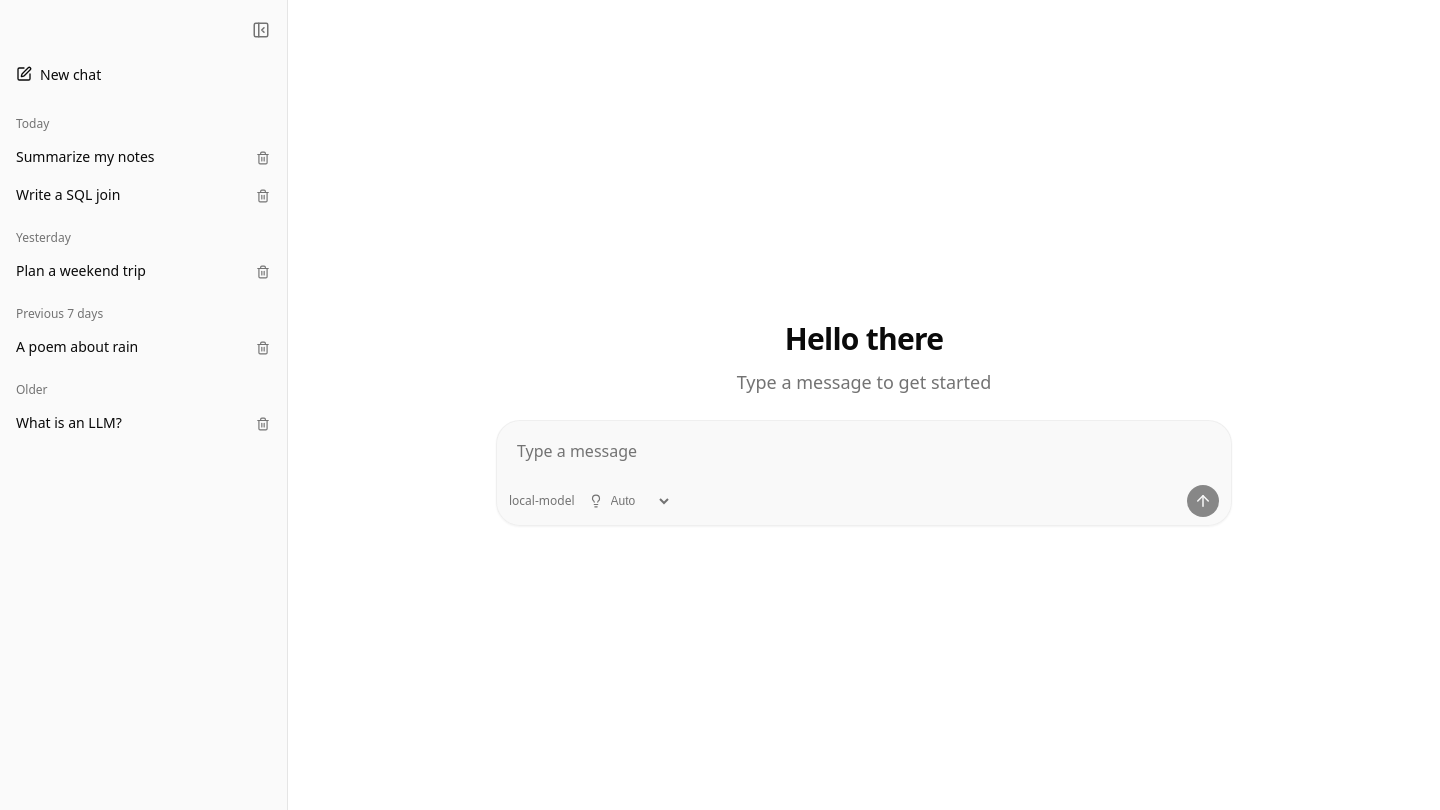
it: deleting asks first, in the row; Cancel and Escape keep the conversation
Expected: the link "New chat" is shown, [16,64,101,84]
Step 1. Click the button named "Delete “Summarize my notes”" → {"x": 263, "y": 158}, box [247,142,279,174]
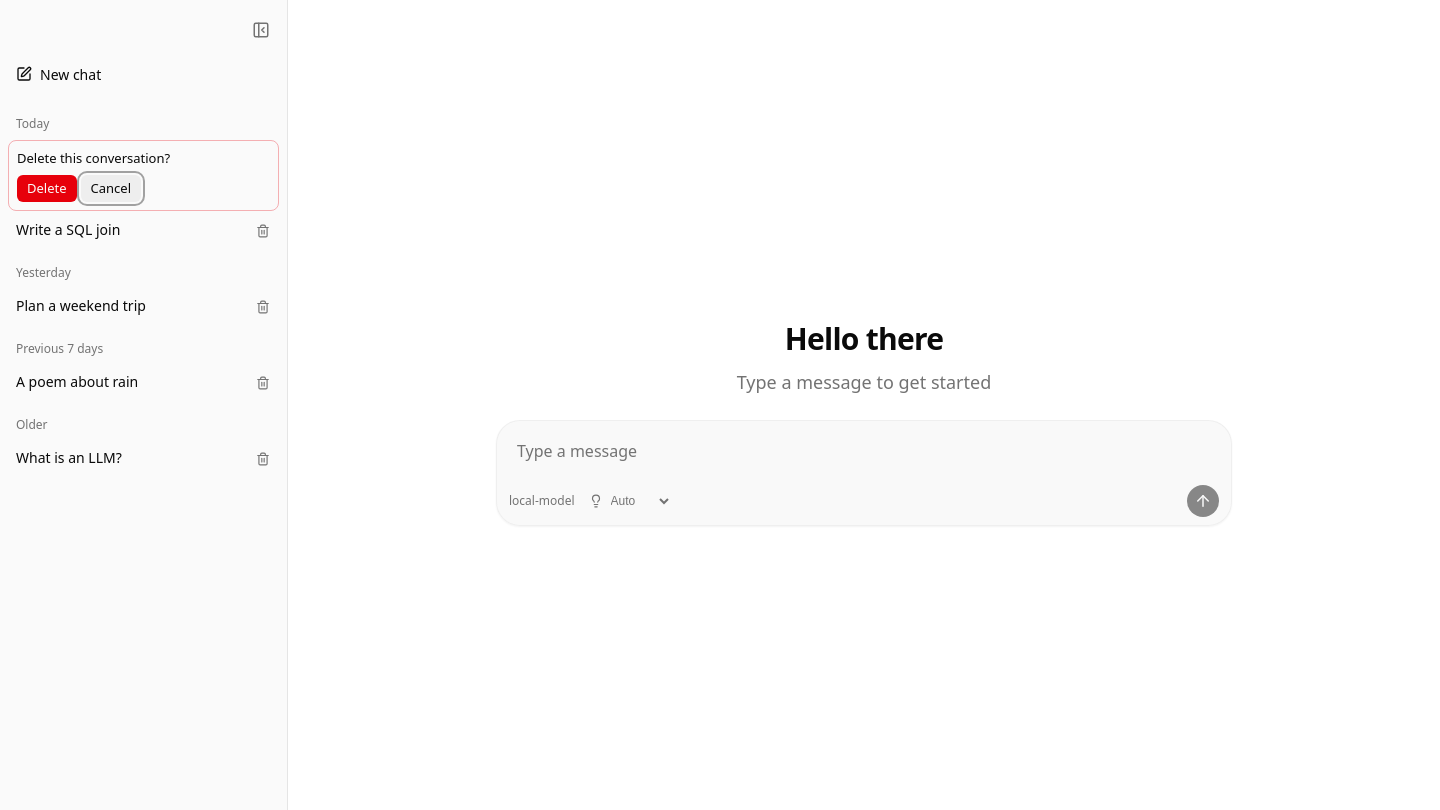
Step 2. Click the button "Cancel" → {"x": 111, "y": 188}, box [80,174,141,202]
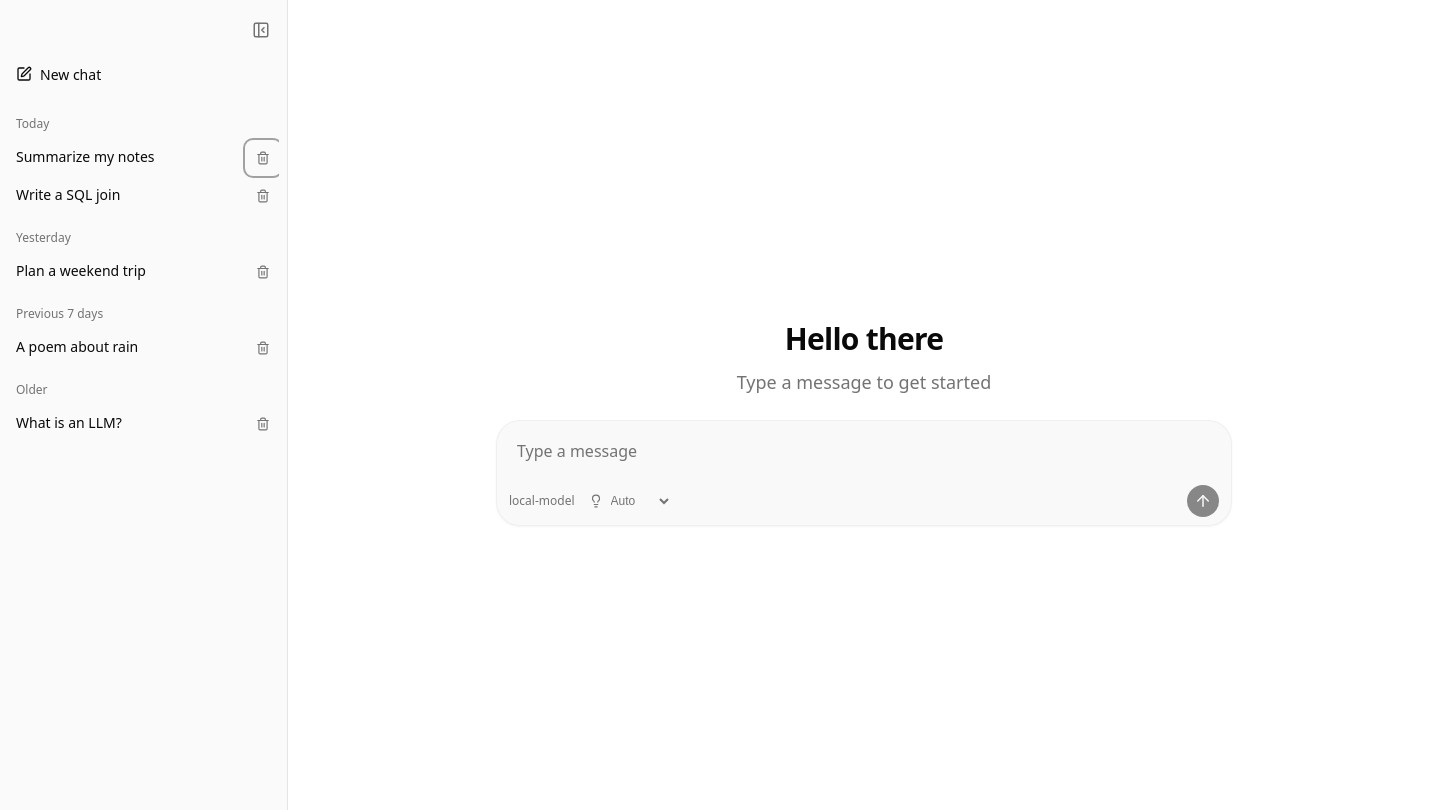
Step 3. Click the button named "Delete “Summarize my notes”" → {"x": 263, "y": 158}, box [247,142,279,174]
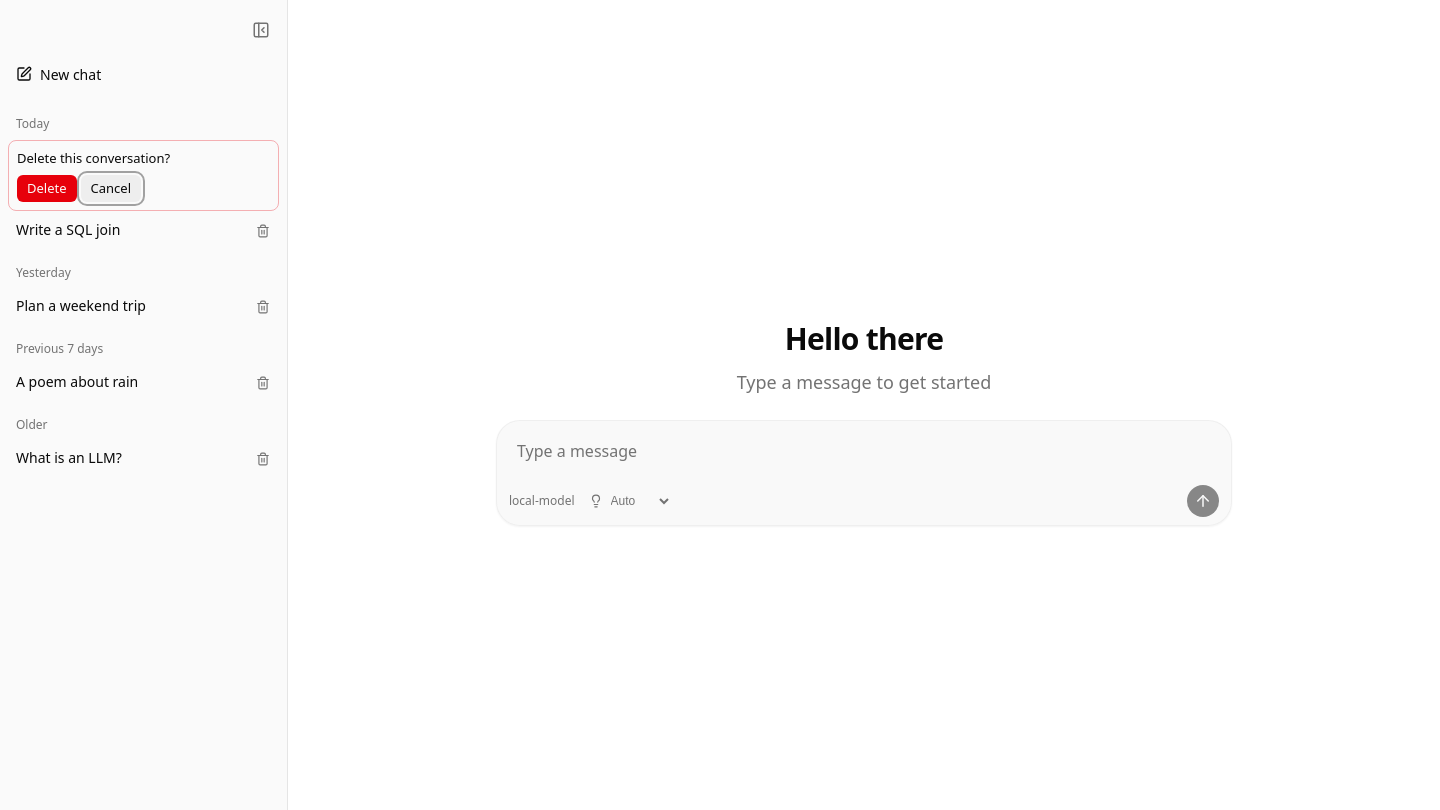
Step 4. Press Escape
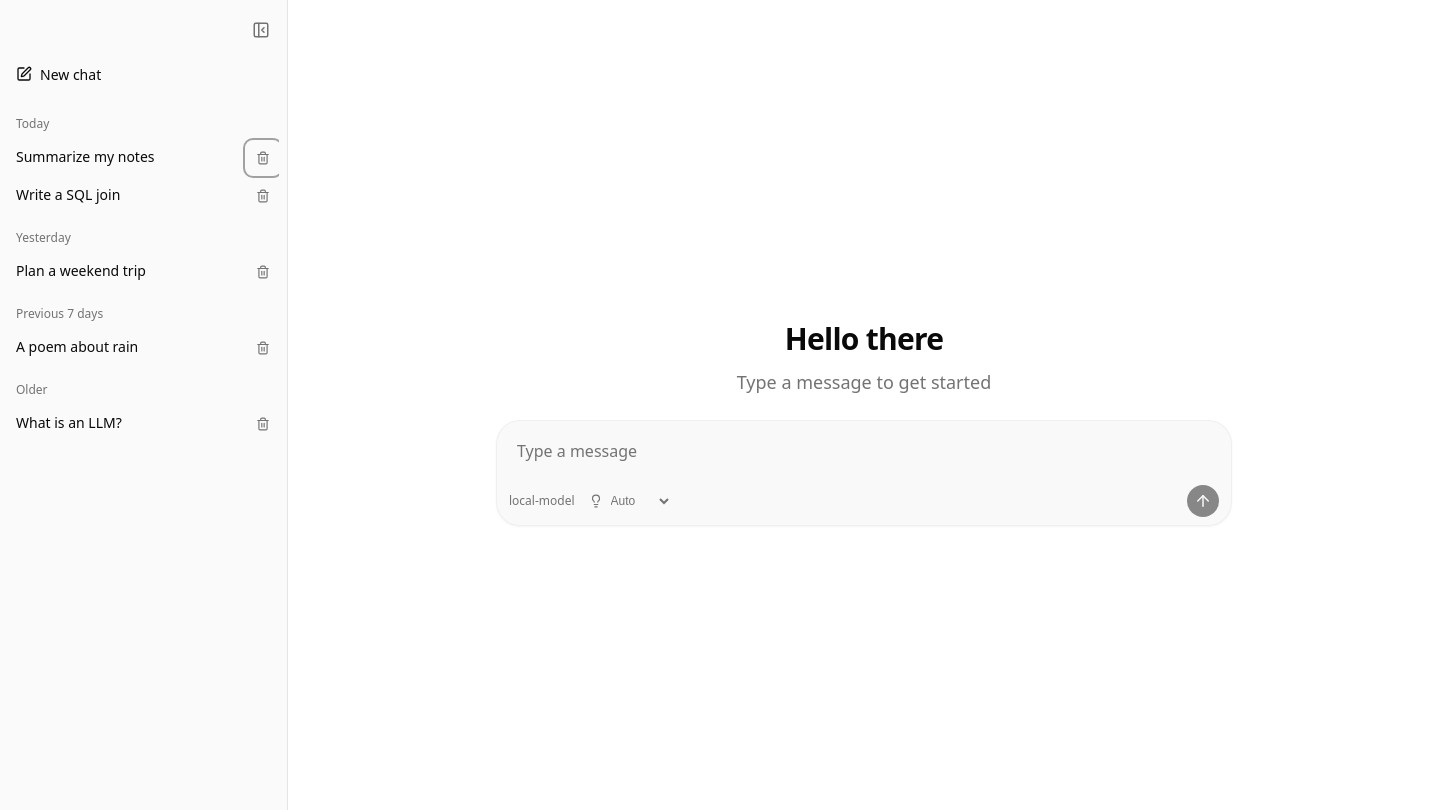
Now the link "Summarize my notes" is shown, box [16,147,154,166]
